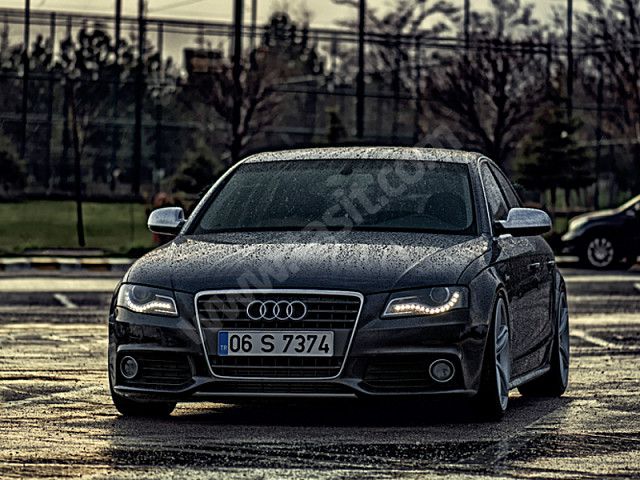audi: (239, 297, 309, 323)
